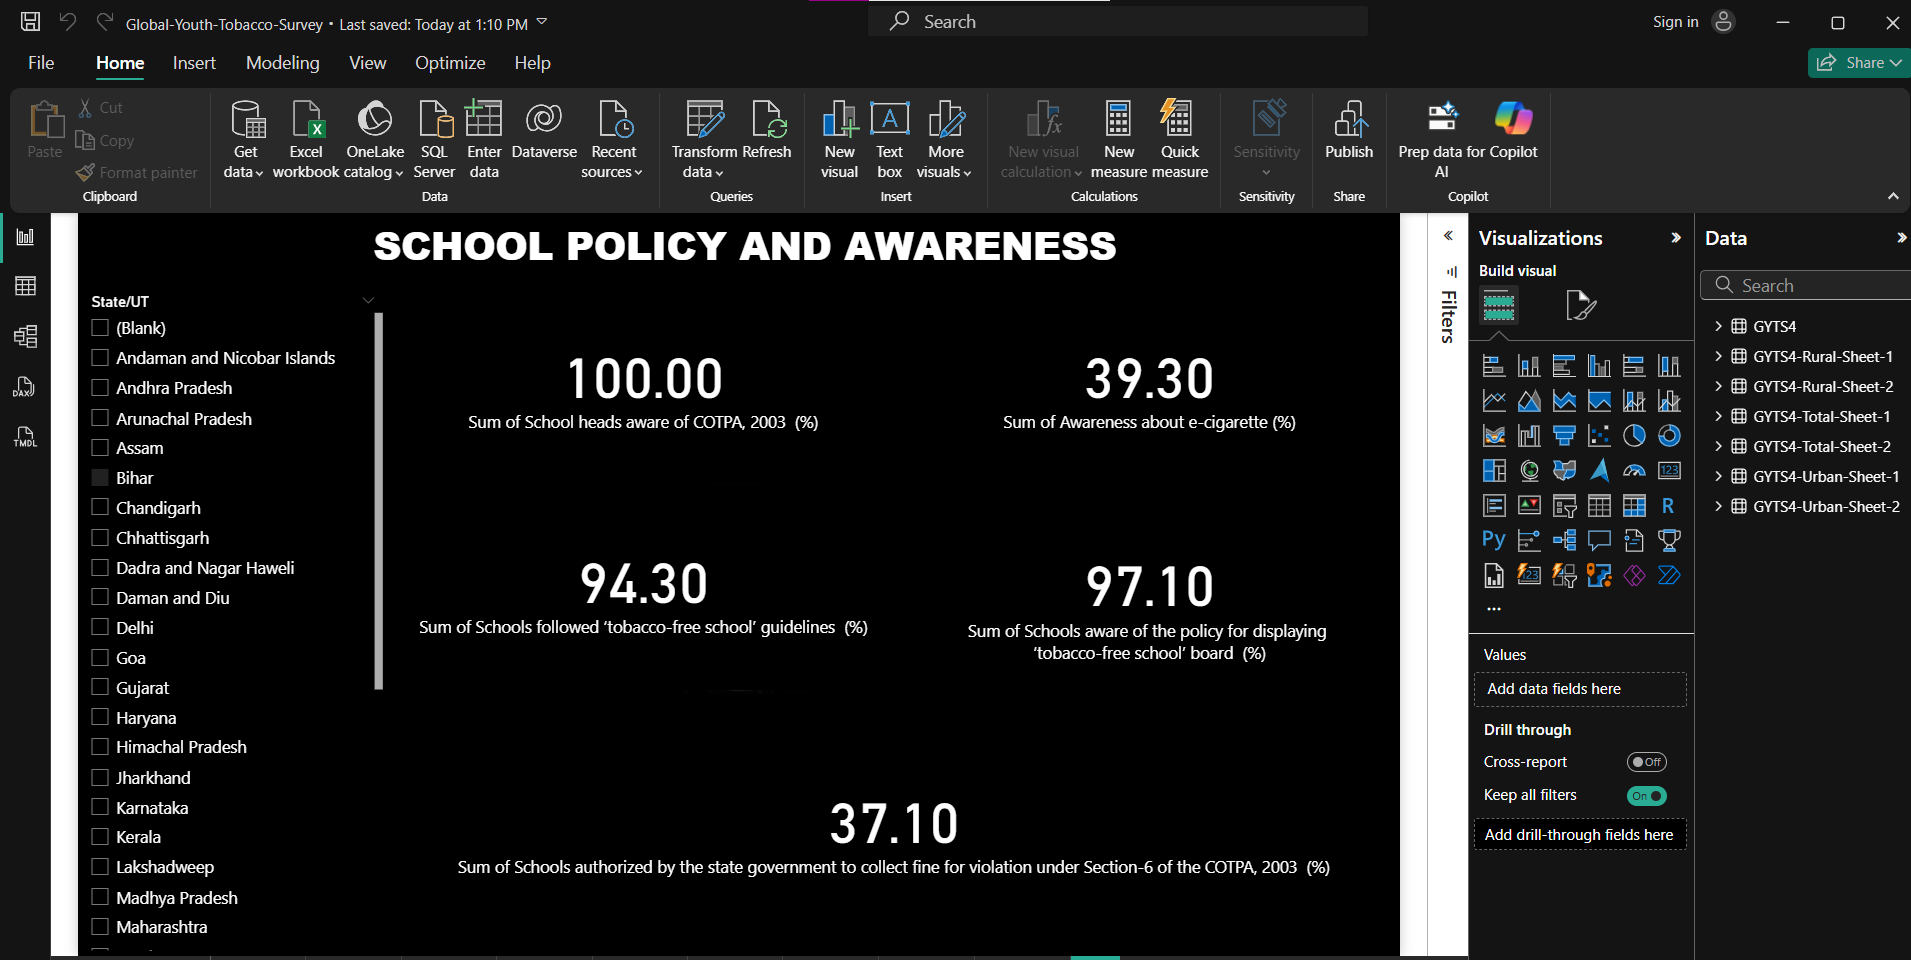

What the dashboard file says about the page in this screenshot:
{"tool":"powerbi","page":{"name":"Page 8","canvas":[1280,720],"ordinal":7},"visuals":[{"type":"textbox","box":[10.4,0,1269.9,72.9],"z":0},{"type":"slicer","fields":{"Values":["GYTS4-Total-Sheet-1.State/UT"]},"box":[0,72.9,300.4,646.8],"z":1000},{"type":"card","fields":{"Values":["Sum(GYTS4-Total-Sheet-1.School heads aware of COTPA, 2003  (%))"]},"box":[299.9,63.7,495.1,199.5],"z":2000},{"type":"card","fields":{"Values":["Sum(GYTS4-Total-Sheet-1.Schools authorized by the state government to collect fine for violation under Section-"]},"box":[299.9,469.7,980.4,250.4],"z":4000},{"type":"card","fields":{"Values":["Sum(GYTS4-Total-Sheet-1.Schools aware of the policy for displaying ‘tobacco-free school’ board  (%))"]},"box":[795.1,263.1,485.2,206.5],"z":5000},{"type":"card","fields":{"Values":["Sum(GYTS4-Total-Sheet-1.Schools followed ‘tobacco-free school’ guidelines  (%))"]},"box":[299.9,263.1,495.1,199.5],"z":6000},{"type":"card","fields":{"Values":["Sum(GYTS4-Total-Sheet-1.Awareness about e-cigarette (%))"]},"box":[795.1,63.7,485.2,199.5],"z":7000}]}

Visuals, with their boxes on the page's 1280x720 design canvas (x1, y1, x2, y2). These are canvas units, not pixel positions in the 1911x960 screenshot, which may show the page scaled, cropped or inside an application window:
textbox: [10,0,1280,73]
slicer - GYTS4-Total-Sheet-1.State/UT: [0,73,300,720]
card - Sum(GYTS4-Total-Sheet-1.School heads aware of COTPA, 2003  (%)): [300,64,795,263]
card - Sum(GYTS4-Total-Sheet-1.Schools authorized by the state government to collect fine for violation under Section-: [300,470,1280,720]
card - Sum(GYTS4-Total-Sheet-1.Schools aware of the policy for displaying ‘tobacco-free school’ board  (%)): [795,263,1280,470]
card - Sum(GYTS4-Total-Sheet-1.Schools followed ‘tobacco-free school’ guidelines  (%)): [300,263,795,463]
card - Sum(GYTS4-Total-Sheet-1.Awareness about e-cigarette (%)): [795,64,1280,263]
